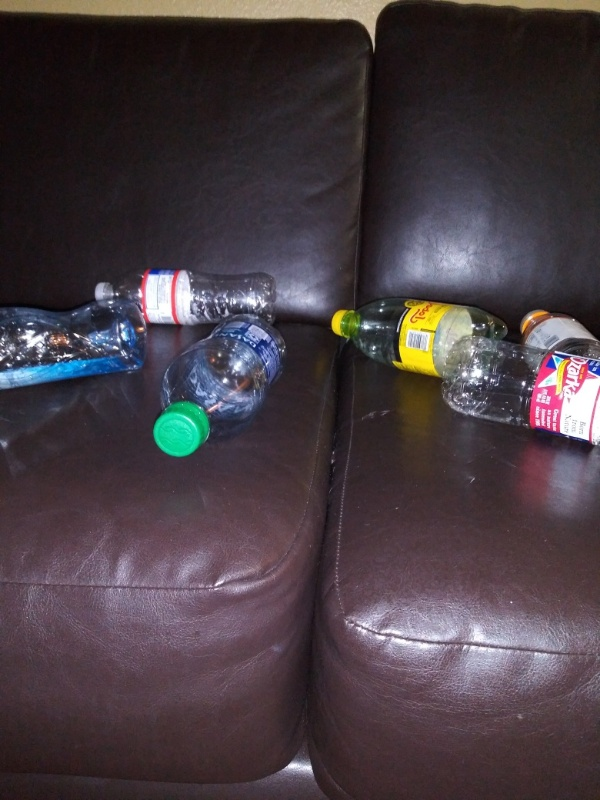bottle: (146, 313, 299, 461), (440, 332, 600, 441), (324, 295, 511, 384), (1, 291, 150, 392), (82, 268, 281, 331), (515, 304, 600, 388)
